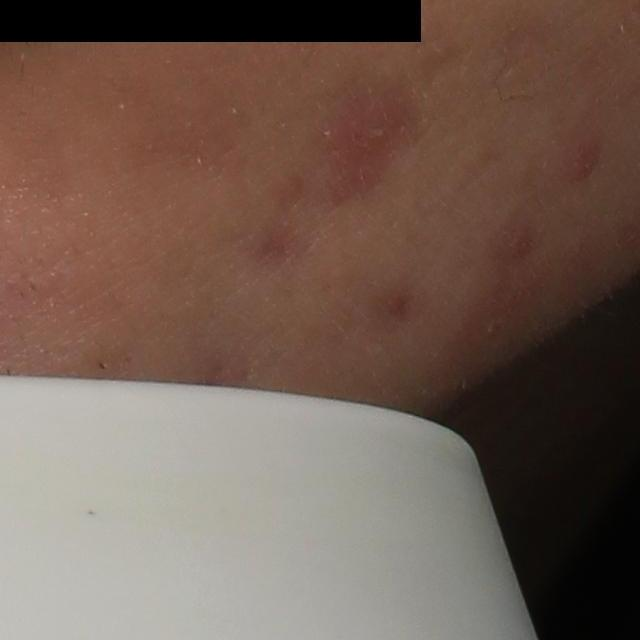papule: (564, 143, 599, 187)
